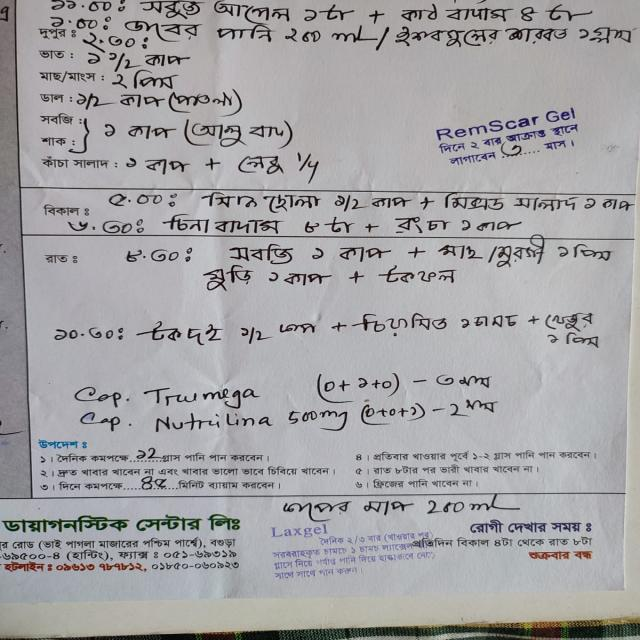Trumega: (148, 383, 265, 409), (152, 413, 274, 435)
